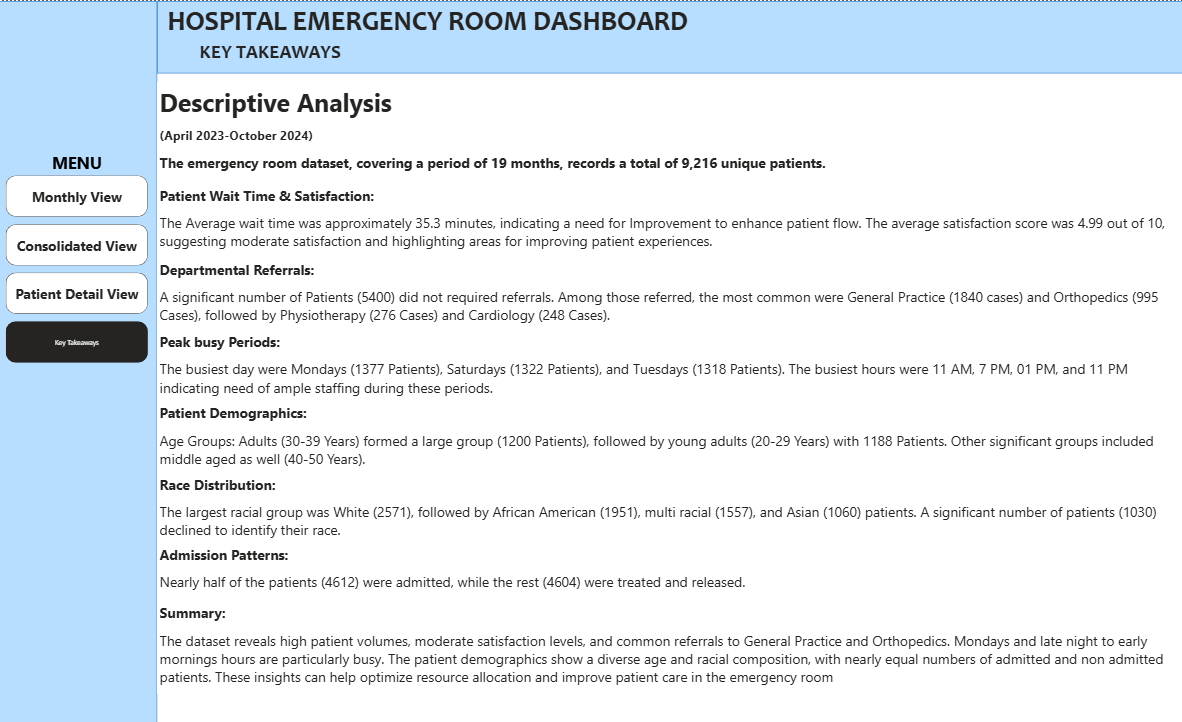

The page's visual inventory and layout, read from the dashboard file:
{"tool":"powerbi","page":{"name":"Key Takeaways","canvas":[2300,1400],"ordinal":3},"visuals":[{"type":"shape","box":[0,0,310,1400],"z":0},{"type":"shape","box":[310,0,1990,140],"z":1000},{"type":"textbox","box":[310,0,1046.7,93.3],"z":2000},{"type":"textbox","box":[332.5,70,395,67.5],"z":3000},{"type":"slicer","fields":{"Values":["Date Table.Date"]},"box":[1590,10,690,117.5],"z":4000},{"type":"pageNavigator","title":"MENU","box":[17.5,290,275,410],"z":5000},{"type":"textbox","box":[310,157.5,1990,132.5],"z":6000},{"type":"textbox","box":[310,290,1990,62.5],"z":7000},{"type":"textbox","box":[310,352.5,1990,142.5],"z":8000},{"type":"textbox","box":[310,495,1990,140],"z":9000},{"type":"textbox","box":[310,635,1990,140],"z":10000},{"type":"textbox","box":[310,775,1990,137.5],"z":11000},{"type":"textbox","box":[310,912.5,1990,135],"z":12000},{"type":"textbox","box":[310,1047.5,1990,112.5],"z":13000},{"type":"textbox","box":[310,1160,1990,180],"z":14000}]}

Visuals, with their boxes in screenshot pixels (x1, y1, x2, y2), scaled from the page's 2300x1400 canvas onto the 1182x722 screenshot:
shape: <box>0,0,159,721</box>
shape: <box>159,0,1181,72</box>
textbox: <box>159,0,697,48</box>
textbox: <box>171,36,374,71</box>
slicer - Date Table.Date: <box>817,5,1172,66</box>
"MENU" pageNavigator: <box>9,150,150,361</box>
textbox: <box>159,81,1181,150</box>
textbox: <box>159,150,1181,182</box>
textbox: <box>159,182,1181,255</box>
textbox: <box>159,255,1181,327</box>
textbox: <box>159,327,1181,400</box>
textbox: <box>159,400,1181,471</box>
textbox: <box>159,471,1181,540</box>
textbox: <box>159,540,1181,598</box>
textbox: <box>159,598,1181,691</box>
